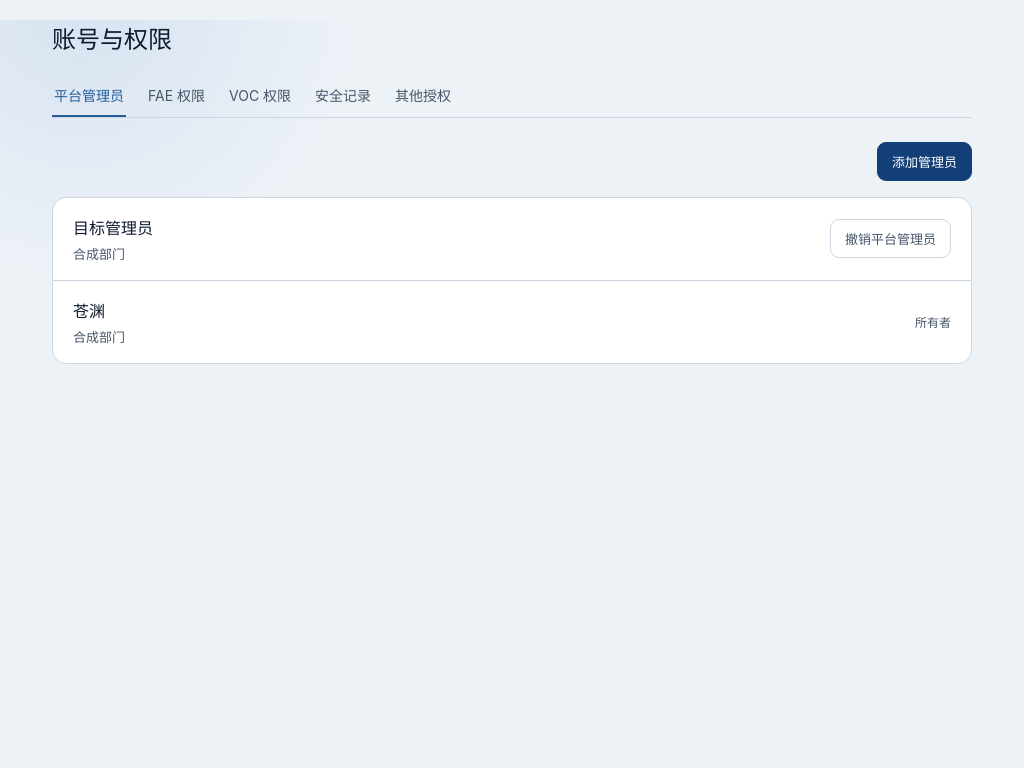
Test: IdentityManagementPage › shows click-level administrator success only after the server confirms and refreshes
Click the button "添加管理员": (924,161) [877, 142, 972, 181]
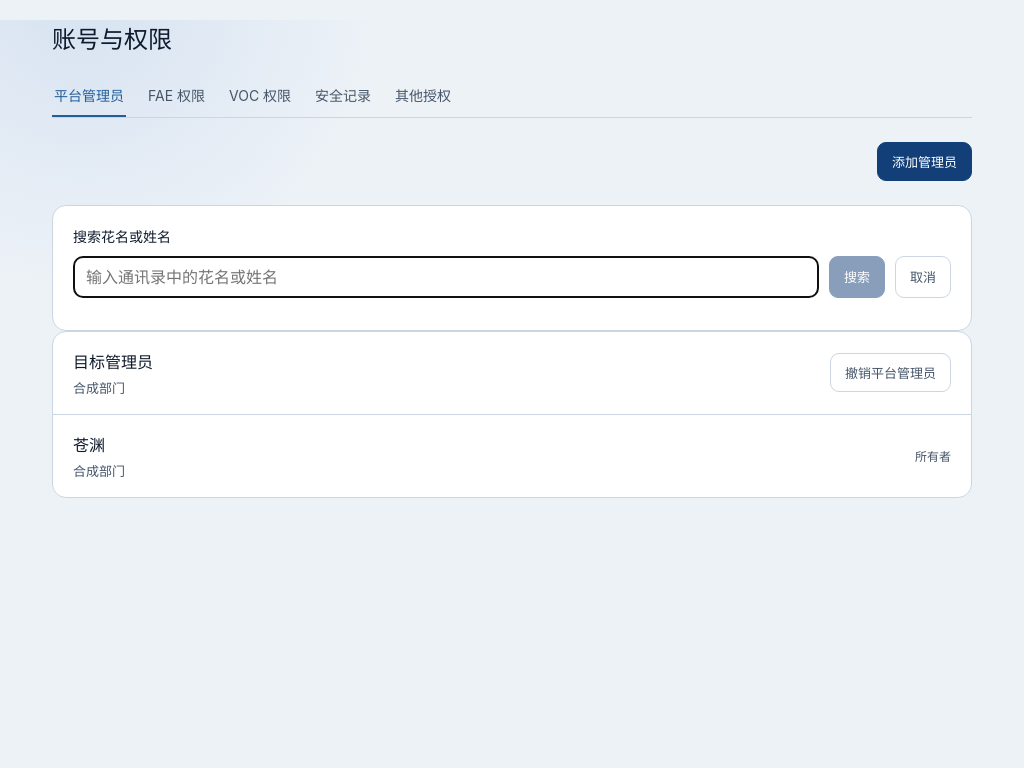
In the field with id "administrator-query": (446,277) [73, 256, 819, 298], type "测试成员"
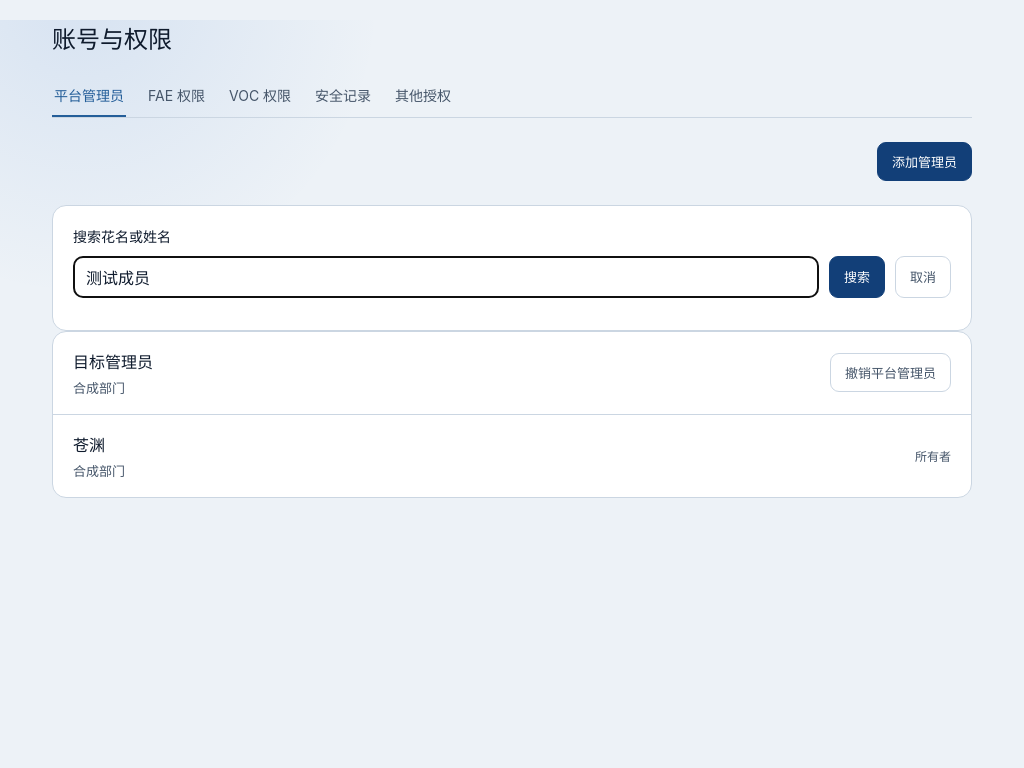
Submit the form, box [73, 226, 951, 298]
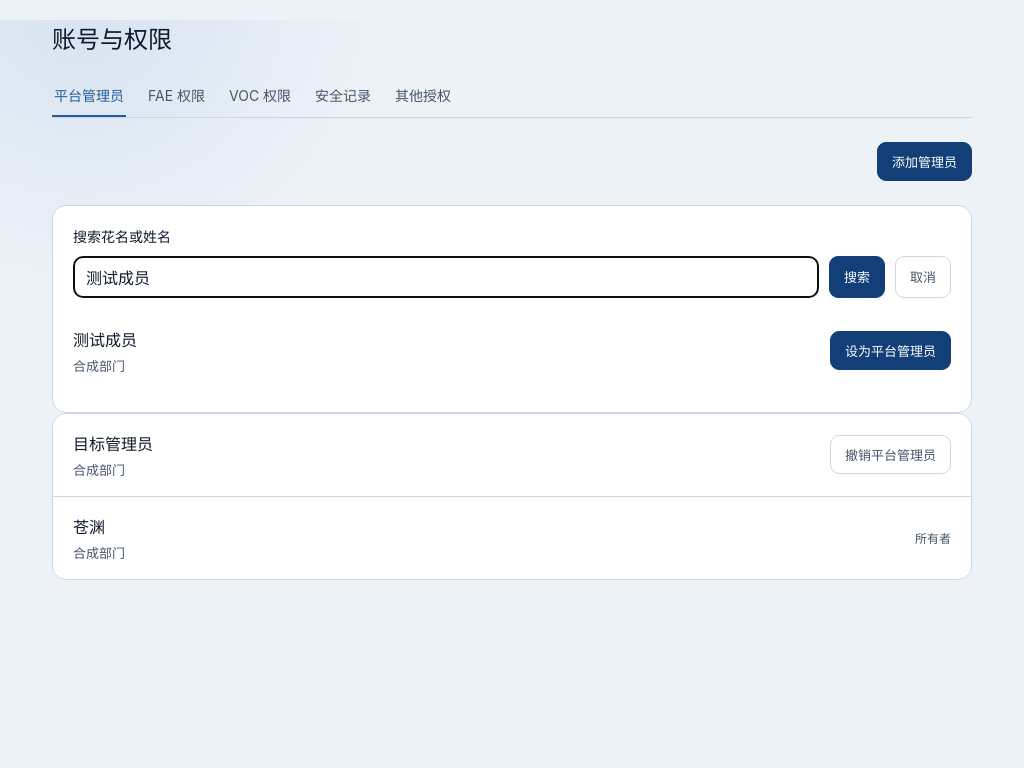
Click the button "设为平台管理员": (890,351) [830, 331, 951, 370]
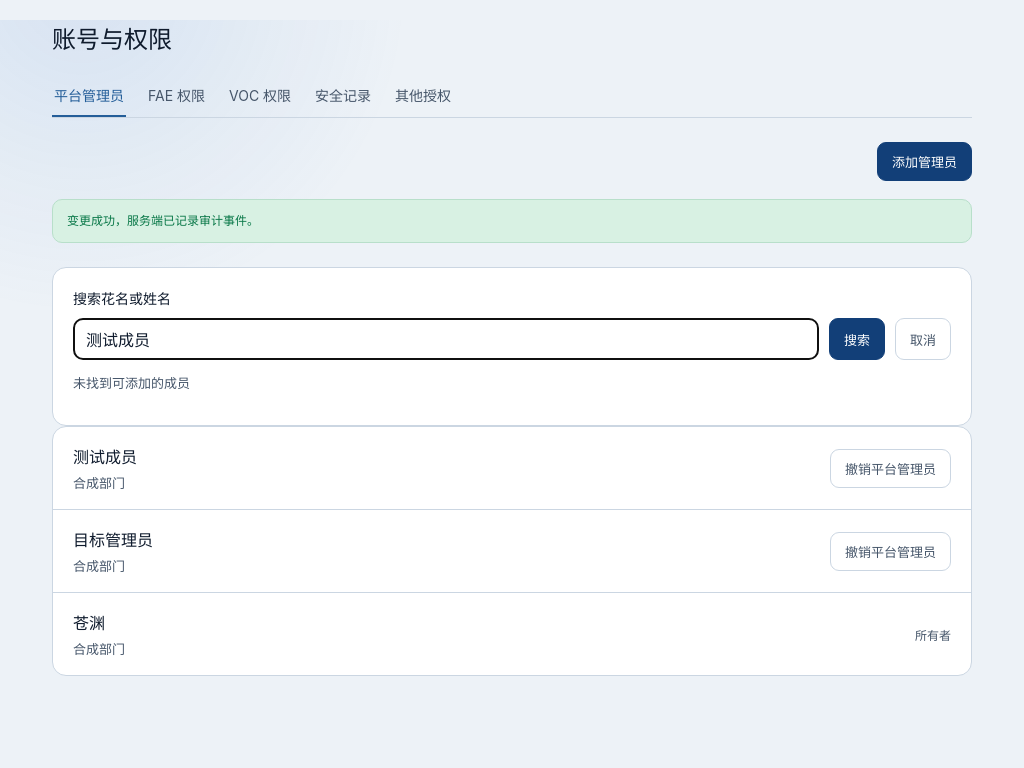
Expected: the element showing "测试成员 合成部门 撤销平台管理员" is shown, [73, 447, 951, 491]
Expected: the text "变更成功，服务端已记录审计事件。" is shown, [52, 199, 972, 243]
